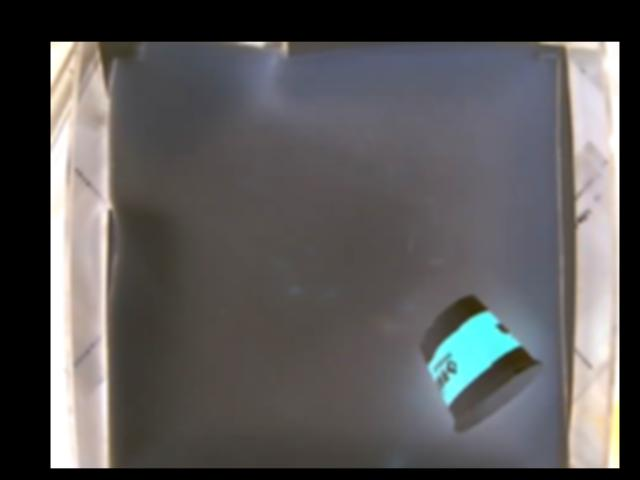Cup: (419, 293, 543, 431)
